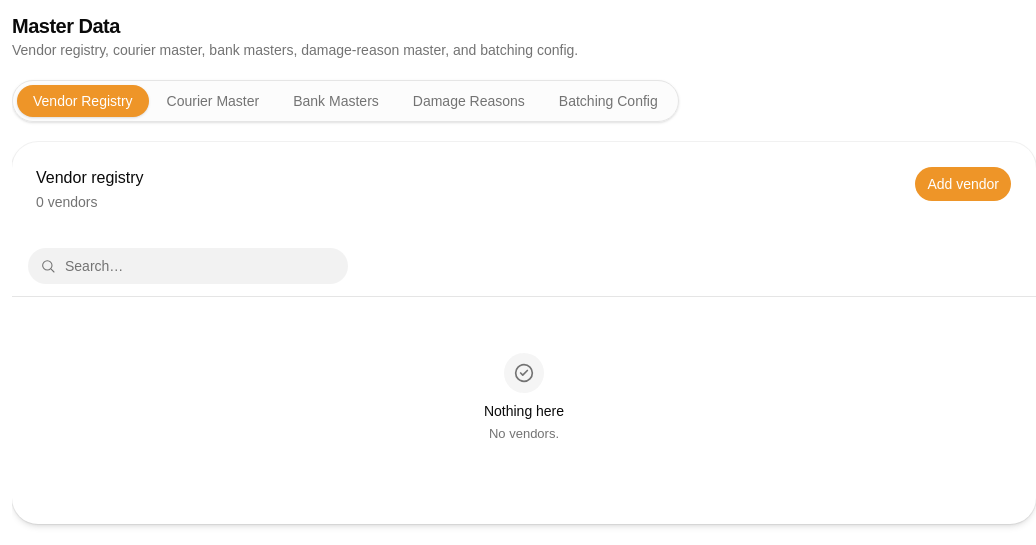
Test: master data views › Bank Masters shows exactly ONE search box
Click the button "Bank Masters".
click(336, 101)  # box x1=277 y1=85 x2=395 y2=117
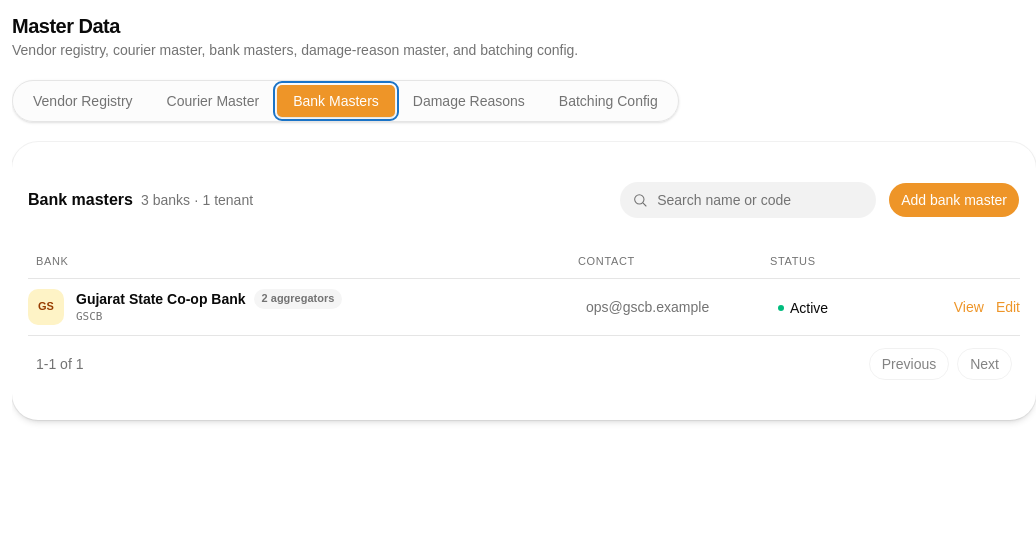
expect the number of fields with placeholder "Search name or code" is 1: met, box x1=620 y1=182 x2=876 y2=218
expect the button "Gujarat State Co-op Bank" is shown: met, box x1=76 y1=289 x2=246 y2=309
expect the field named "Search bank masters" is shown: met, box x1=620 y1=182 x2=876 y2=218
